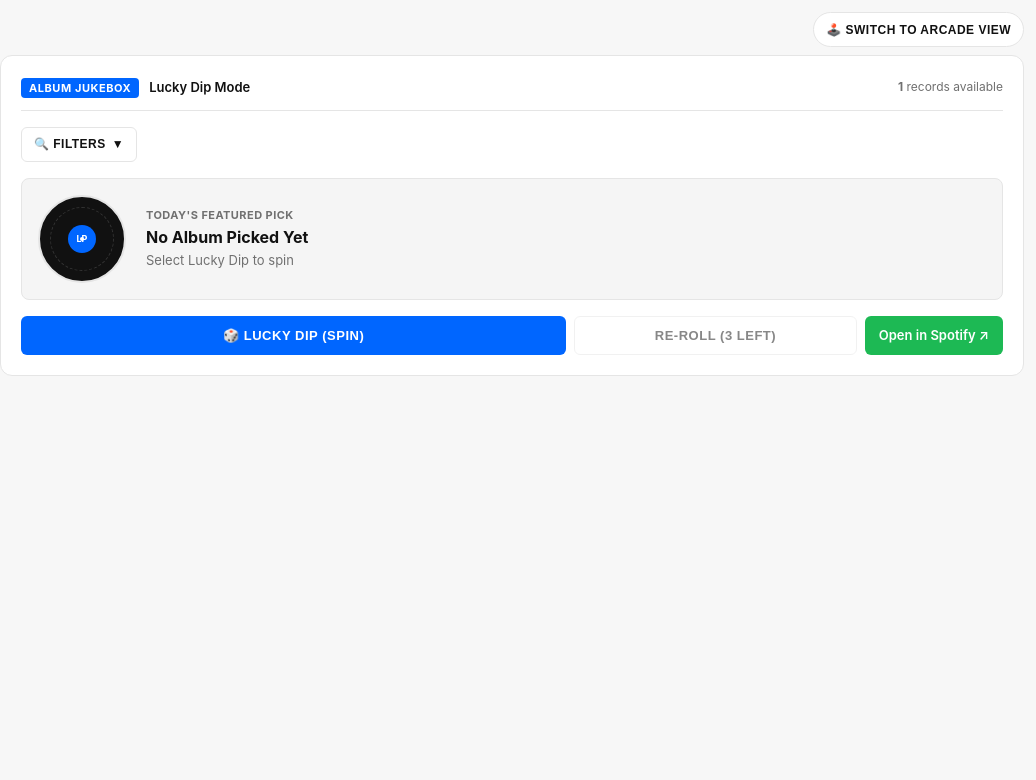
Test case: JukeboxCard › renders Jukebox card and allows toggling between Flat and Arcade mode
Expected: the text "Album Jukebox" is shown, [29,81,131,95]
Click the button "🕹️ Switch to Arcade View".
click(919, 30)  # box [813,12,1024,47]
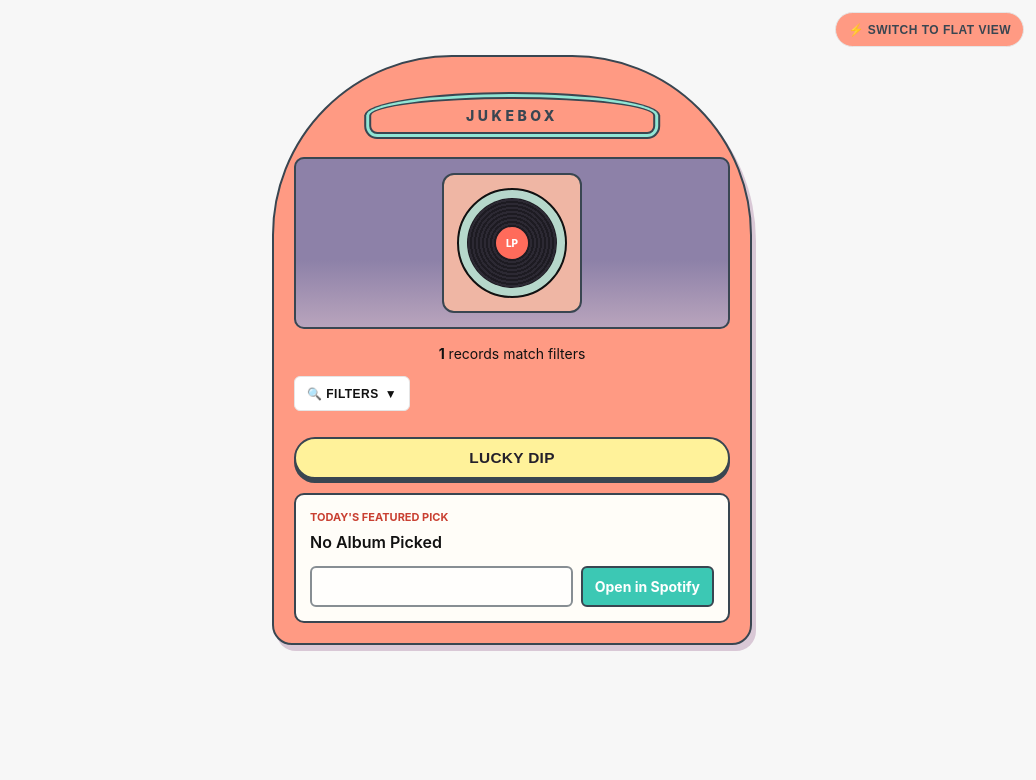
Expected: the text "JUKEBOX" is shown, [369,97,655,134]
Expected: the button "⚡ Switch to Flat View" is shown, [835,12,1024,47]
